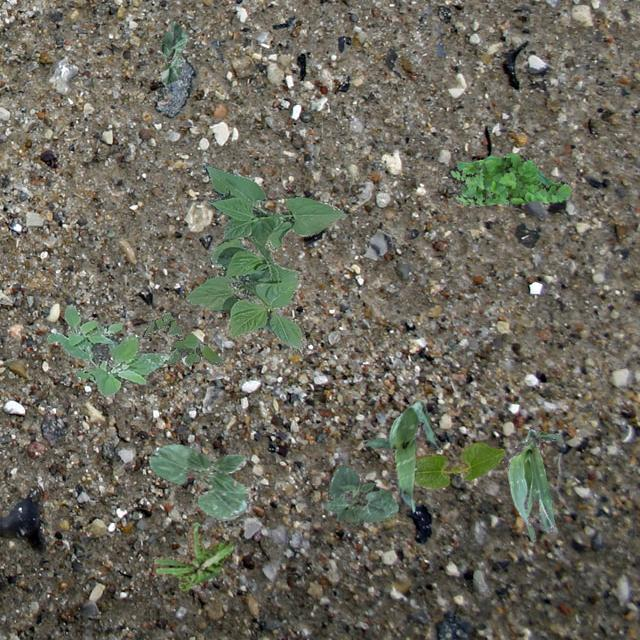crop: (182, 162, 344, 354), (362, 400, 439, 510), (148, 442, 246, 520), (506, 428, 560, 542), (324, 464, 398, 526), (412, 442, 503, 488), (160, 20, 186, 84)
weed: (46, 304, 170, 394), (446, 153, 570, 205), (152, 522, 232, 592), (142, 310, 224, 366)
